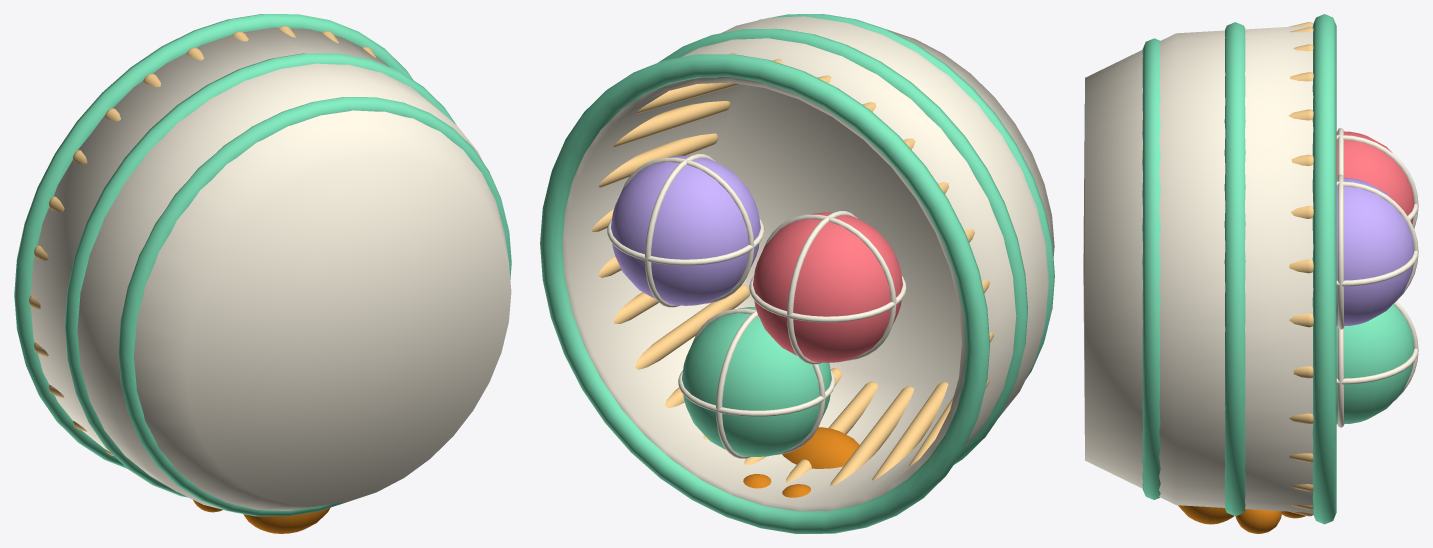
File: BallBasket_Premium.fbx
The picture shows the model from 3 angles, left to right: view 1: azimuth 30°, elevation 25°; view 2: azimuth 150°, elevation 25°; view 3: azimuth 270°, elevation 25°; orthographic projection. The views are drawn at different scales.
Parts seen in each view (by area): view 1: BallBasket_Body; view 2: BallBasket_Body; view 3: BallBasket_Body.
Boxes of the visible parts, box(x1,y1,x2,y2) form: BallBasket_Body: box(14, 14, 511, 533); BallBasket_Body: box(540, 14, 1054, 533); BallBasket_Body: box(1083, 14, 1418, 533).
Size of the model in its own units: 0.5796 by 0.6014 by 0.3804.
